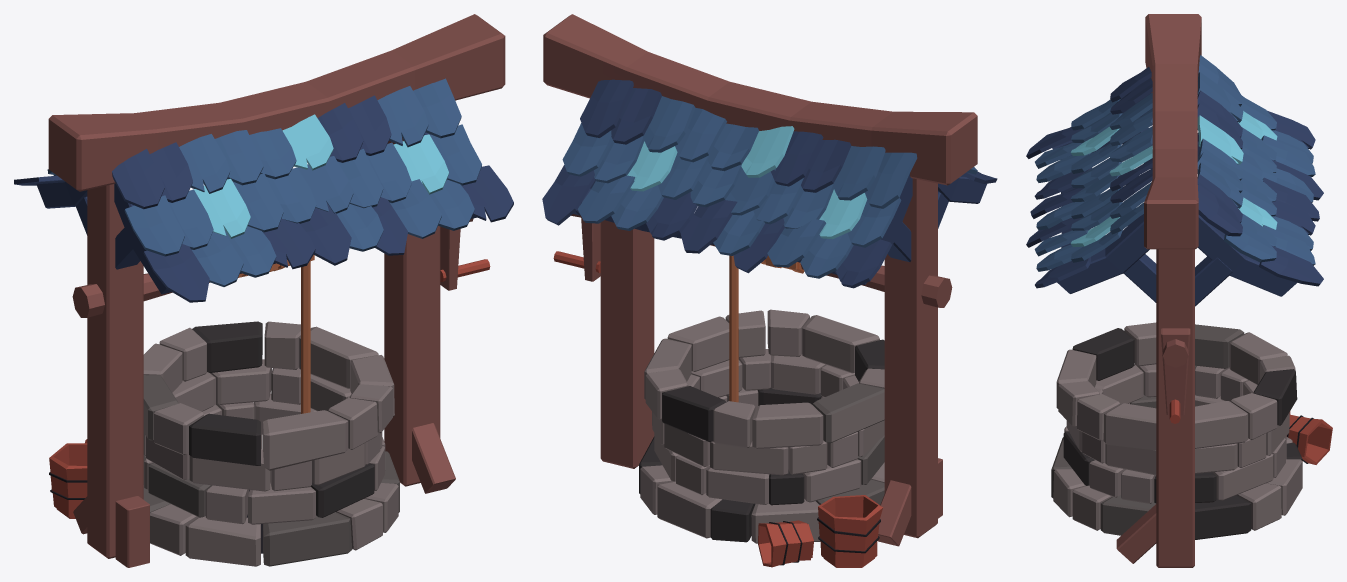
File: poço2.fbx
The picture shows the model from 3 angles, left to right: view 1: azimuth 30°, elevation 25°; view 2: azimuth 150°, elevation 25°; view 3: azimuth 270°, elevation 25°; orthographic projection. The views are drawn at different scales.
Visible parts, largest first — view 1: Plane.003, Cylinder.027; view 2: Plane.003, Cylinder.027, Cylinder.029; view 3: Plane.003, Cylinder.029.
Part boxes in pixels (x1,y1,x2,y2): Plane.003: (14,14,513,567); Cylinder.027: (49,443,87,518); Plane.003: (542,14,997,546); Cylinder.027: (817,495,882,567); Cylinder.029: (758,520,813,567); Plane.003: (1026,14,1323,567); Cylinder.029: (1286,414,1332,464).
Bounding box in the file's own units: 2.45 × 2.41 × 1.69.
